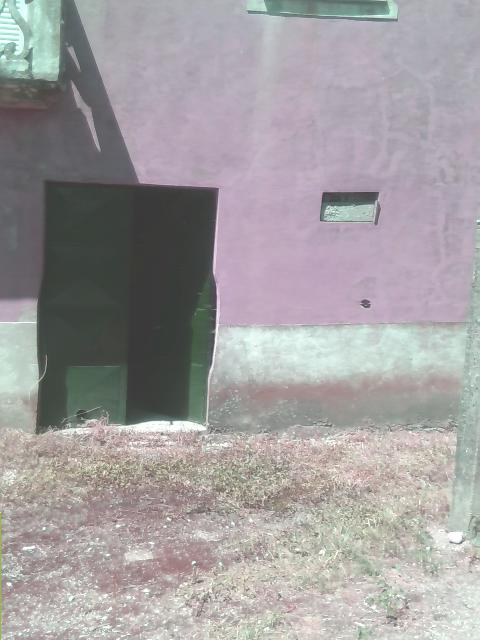semi_door: (36, 179, 218, 429)
